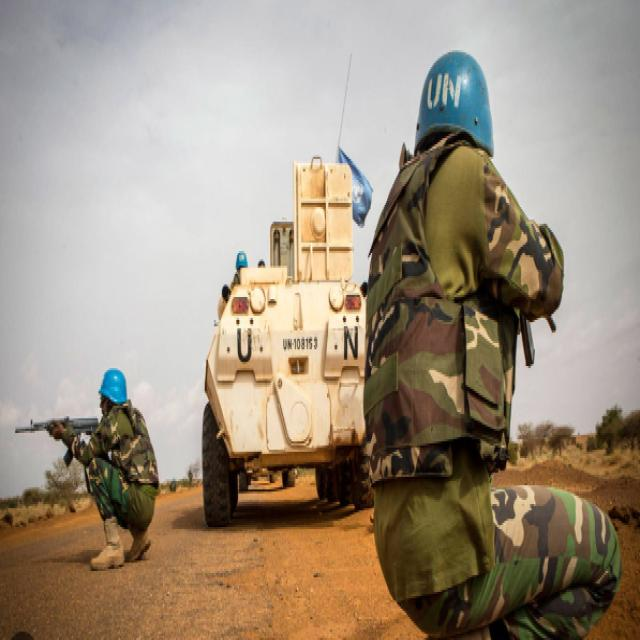helmet: (412, 45, 498, 159), (96, 364, 130, 420)
